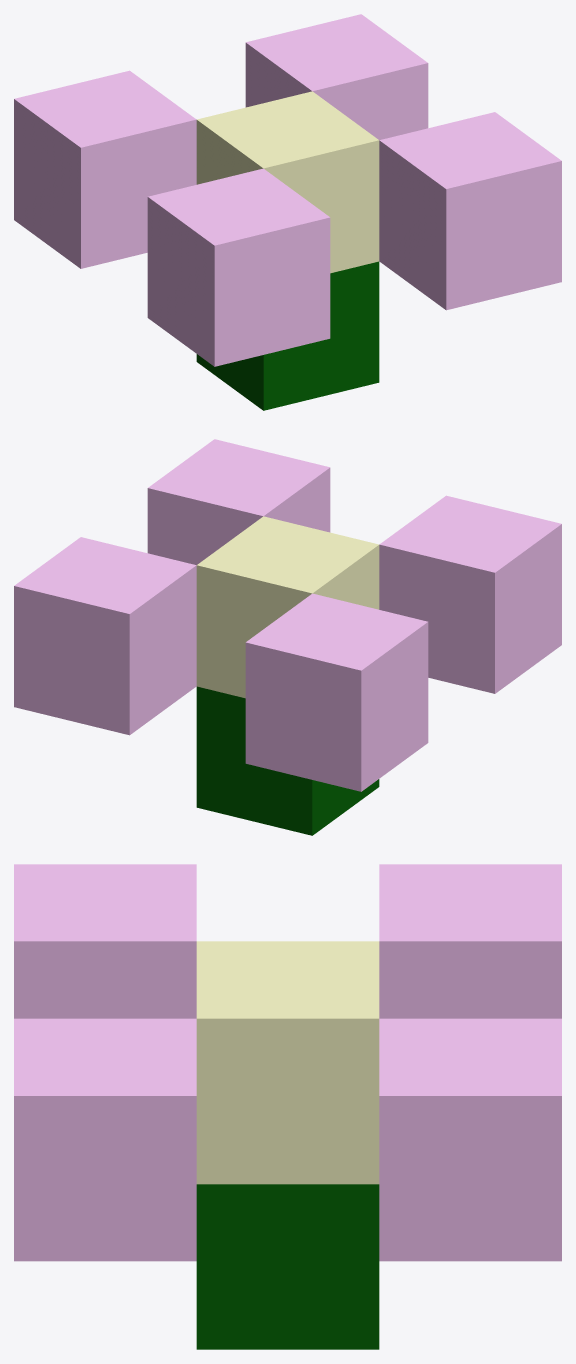
Rendered from flower4.dae.
The picture shows the model from 3 angles, top to bottom: view 1: azimuth 30°, elevation 25°; view 2: azimuth 150°, elevation 25°; view 3: azimuth 270°, elevation 25°; orthographic projection. The views are drawn at different scales.
Visible parts, largest first — view 1: flower4; view 2: flower4; view 3: flower4.
Part boxes in pixels (bbox=[...]): flower4: bbox=[14, 14, 561, 410]; flower4: bbox=[14, 439, 561, 835]; flower4: bbox=[14, 864, 561, 1349].
Size of the model in its own units: 0.3 by 0.3 by 0.2.
Materials: 1 (1 with a texture image).
